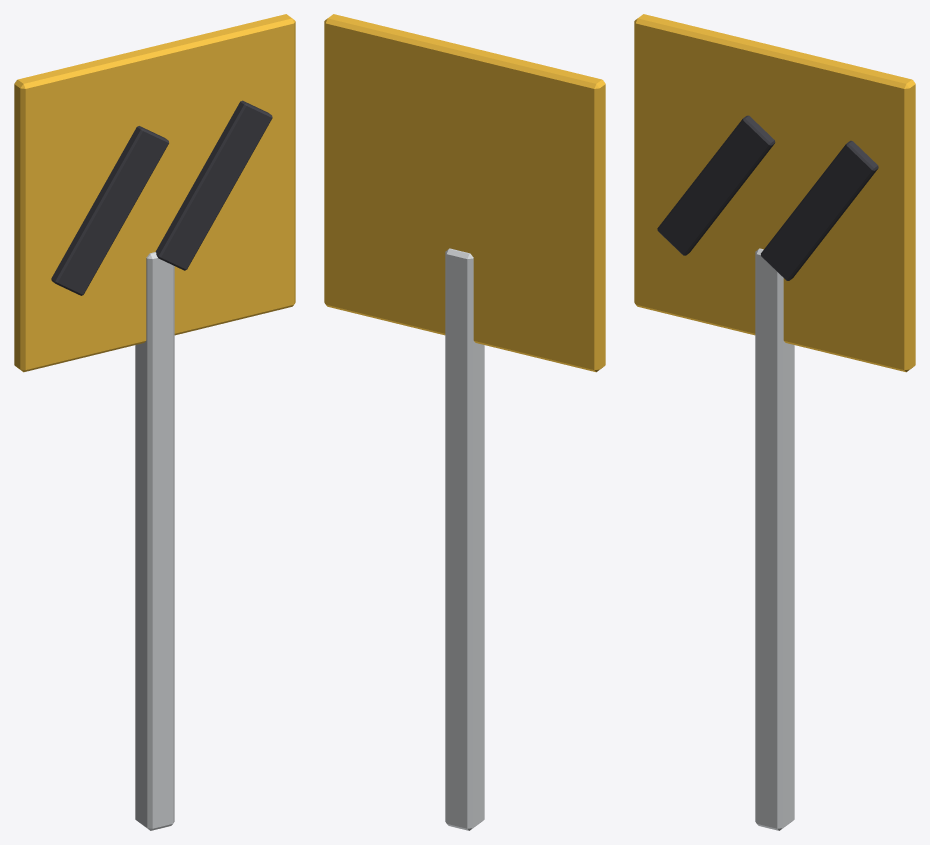
File: sign_chevron.glb
The picture shows the model from 3 angles, left to right: view 1: azimuth 30°, elevation 25°; view 2: azimuth 150°, elevation 25°; view 3: azimuth 330°, elevation 25°; orthographic projection.
Parts seen in each view (by area): view 1: sign_chevron; view 2: sign_chevron; view 3: sign_chevron.
Boxes of the visible parts, box(x1,y1,x2,y2) form: sign_chevron: box(14, 14, 295, 830); sign_chevron: box(324, 14, 605, 830); sign_chevron: box(634, 14, 915, 830).
Size of the model in its own units: 0.8 by 2.15 by 0.09.
